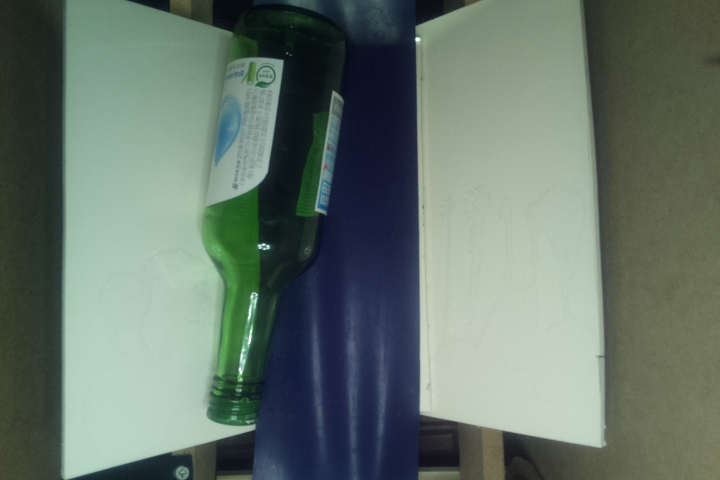soju: (200, 8, 354, 424)
